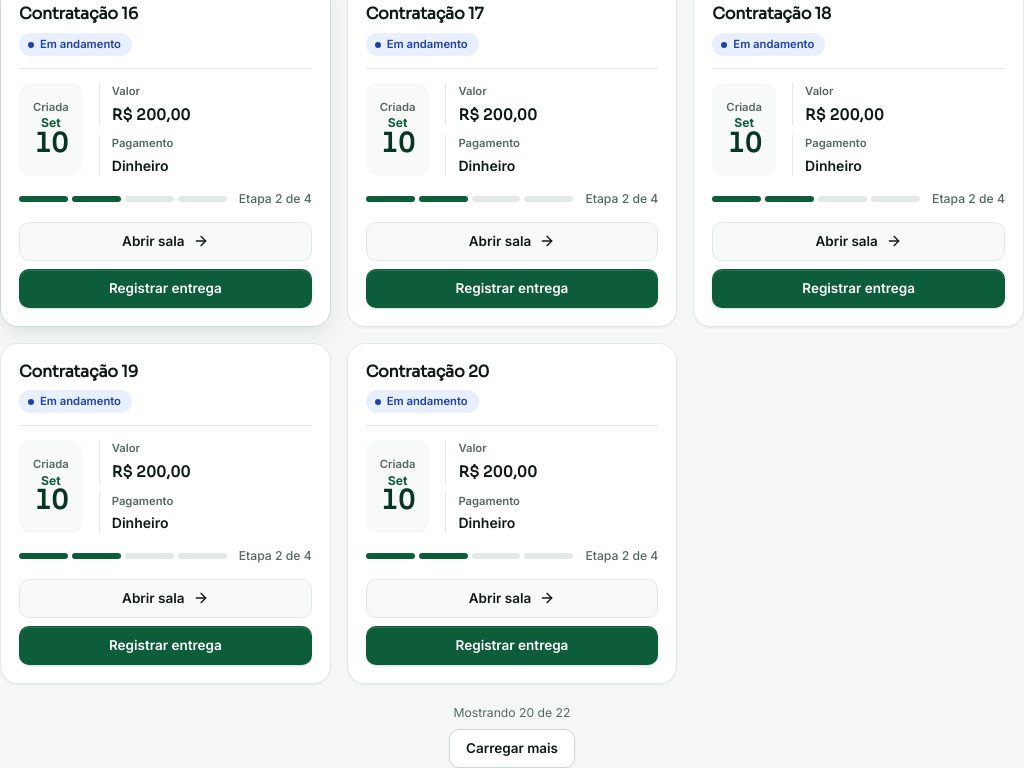
it: MyContracts › a contratação que reaparece na página seguinte (a lista andou) não aparece duas vezes
(page scrolled)
What coordinates should you click on to do the following:
click the button "Carregar mais"
I would click on:
 (512, 749)
Its box is [449, 729, 575, 767].
(page scrolled)
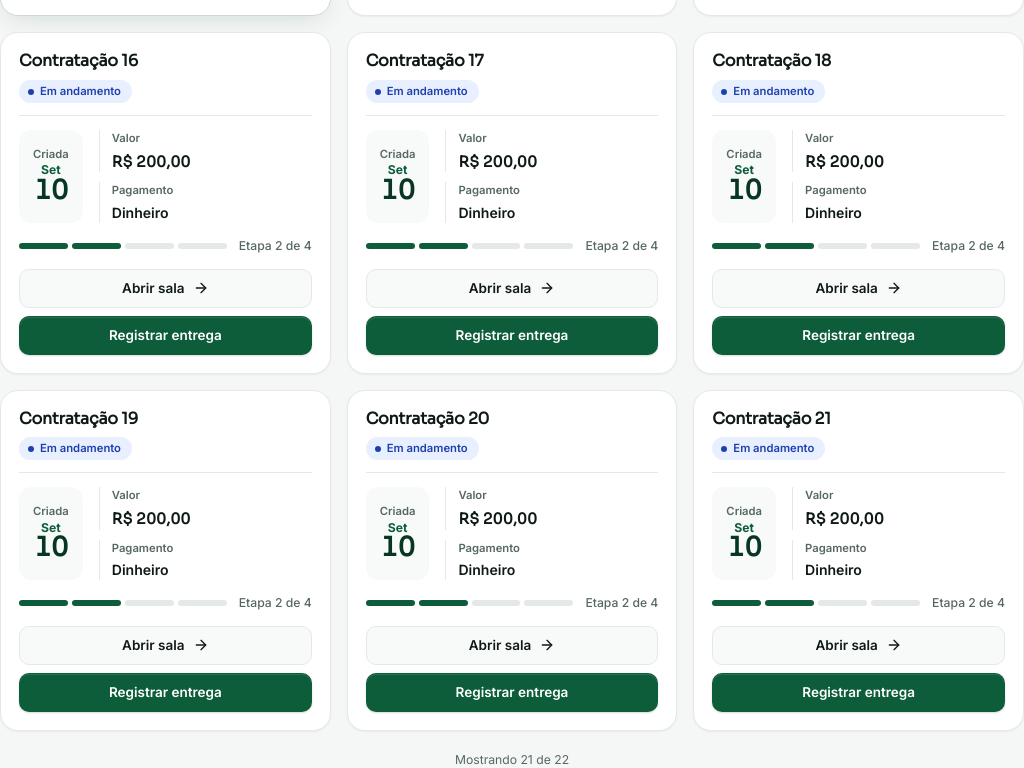
Check: the number of elements "Contratação 20" is 1, box [347, 390, 677, 731]
